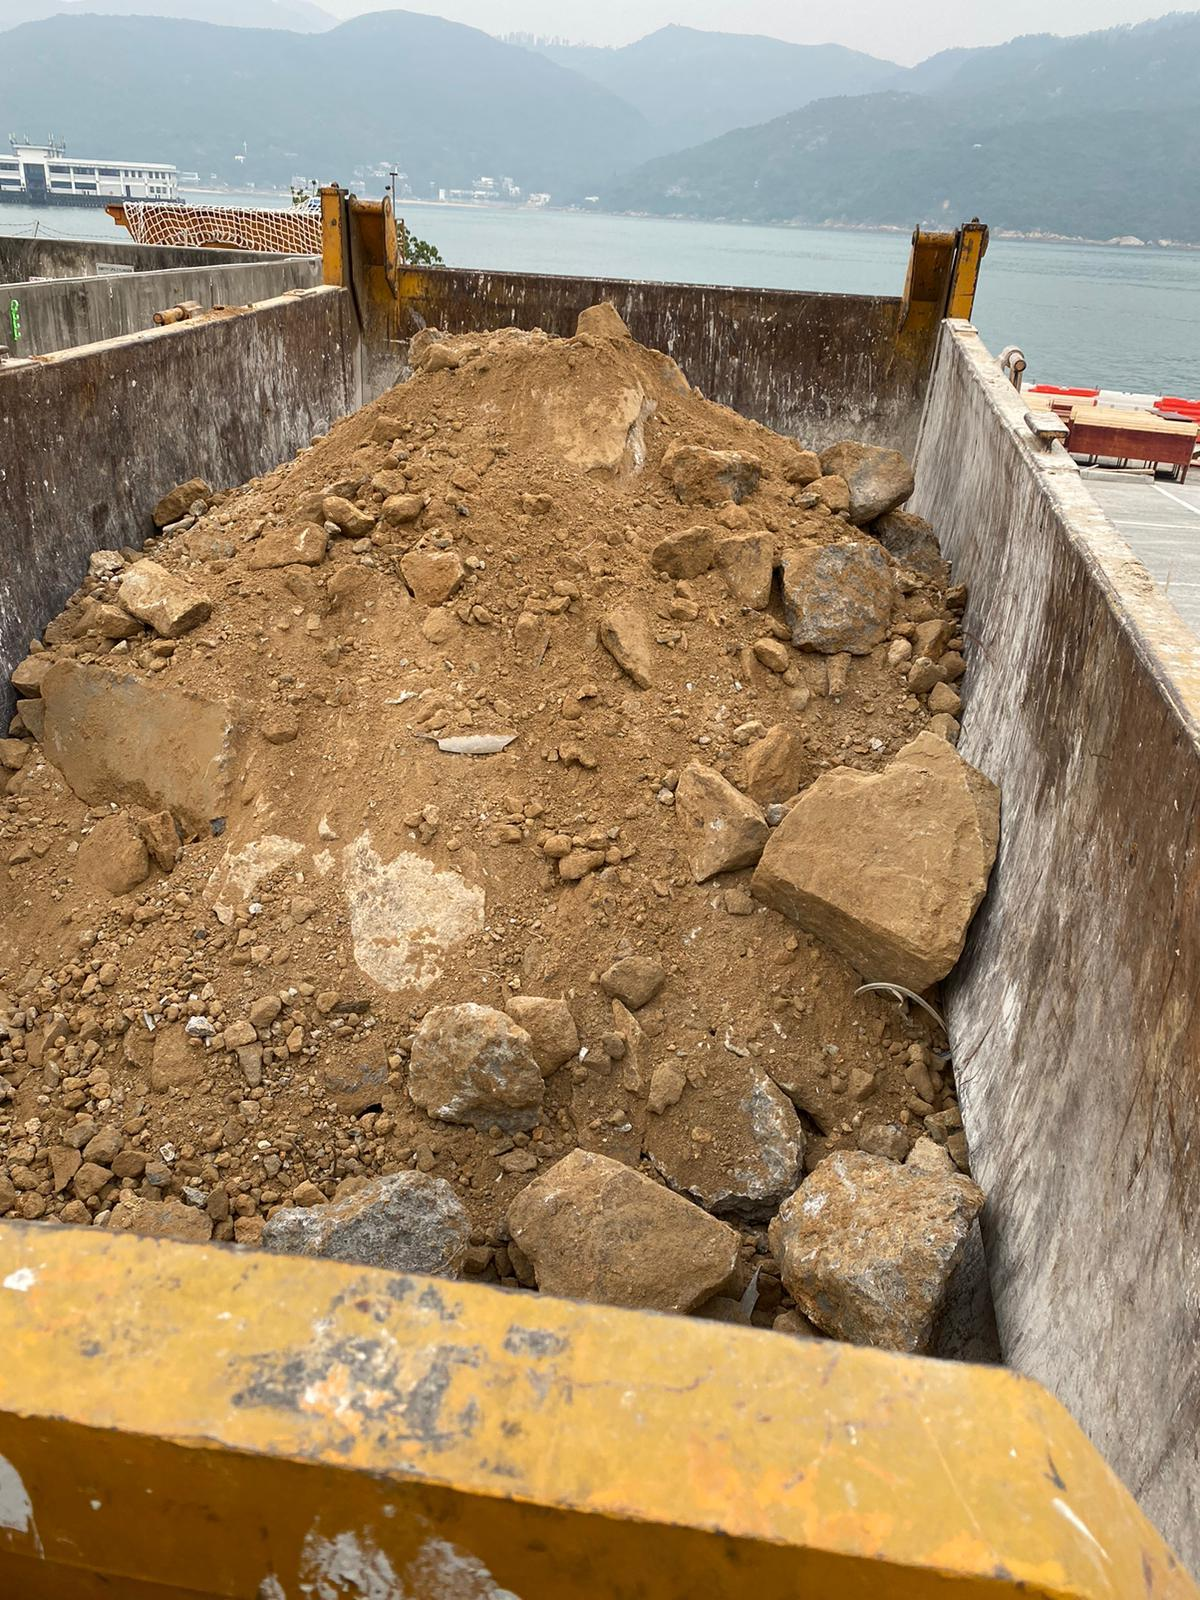dirt: (1, 300, 997, 1350)
stone: (748, 729, 1001, 995), (766, 1144, 986, 1353), (505, 1145, 740, 1314), (37, 656, 242, 830), (641, 1047, 805, 1214), (260, 1167, 471, 1281), (342, 833, 486, 992), (405, 1000, 544, 1132), (779, 538, 897, 655), (671, 760, 771, 882), (818, 439, 914, 523), (116, 556, 211, 637), (596, 604, 656, 688), (397, 546, 463, 605), (599, 953, 665, 1007)
